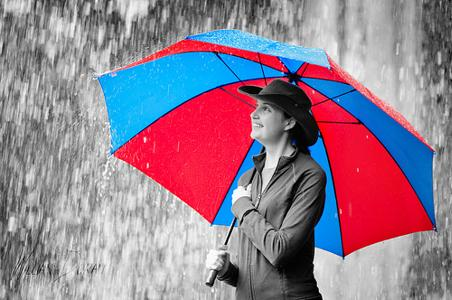person: (204, 78, 326, 300)
